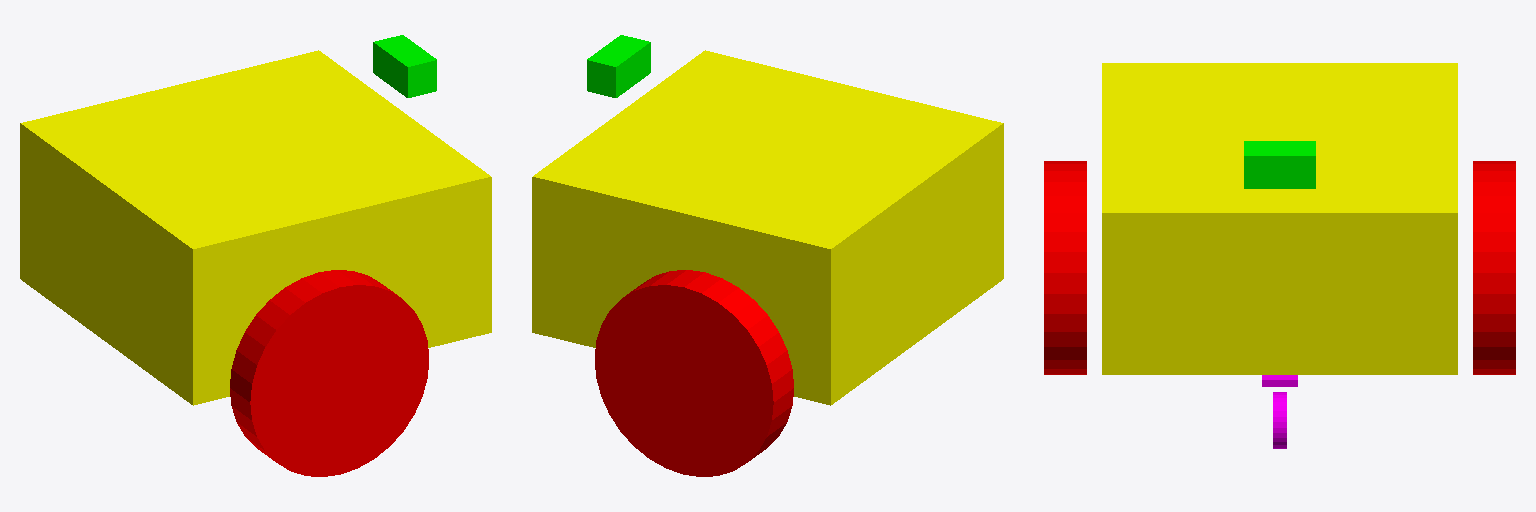
URDF robot description (diff_bot):
<?xml version="1.0"?>
<robot name="diff_bot">
  <link name="base_link">
    <inertial>
      <origin xyz="0.0 0.0 0.0" rpy="0.0 0.0 0.0"/>
      <mass value="0.0"/>
      <inertia ixx="0.0" ixy="0.0" ixz="0.0" iyy="0.0" iyz="0.0" izz="0.0"/>
    </inertial>
  </link>
  <link name="body">
    <inertial>
      <origin xyz="0.0 0.0 0.0" rpy="0.0 0.0 0.0"/>
      <mass value="10"/>
      <inertia ixx="0.4" ixy="0.0" ixz="0.0" iyy="0.4" iyz="0.0" izz="0.4"/>
    </inertial>
    <visual name="">
      <origin xyz="0.0 0.0 0.0" rpy="0.0 0.0 0.0"/>
      <geometry>
        <box size="0.5 0.5 0.25"/>
      </geometry>
      <material name="">
        <color rgba="1.0 1.0 0.0 1.0"/>
      </material>
    </visual>
    <collision>
      <origin xyz="0.0 0.0 0.0" rpy="0.0 0.0 0.0"/>
      <geometry>
        <box size="0.5 0.5 0.25"/>
      </geometry>
    </collision>
  </link>
  <link name="left_wheel">
    <inertial>
      <origin xyz="0.0 0.0 0.0" rpy="0.0 0.0 0.0"/>
      <mass value="0.5"/>
      <inertia ixx="0.01" ixy="0.0" ixz="0.0" iyy="0.01" iyz="0.0" izz="0.01"/>
    </inertial>
    <visual name="">
      <origin xyz="0.0 0.0 0.0" rpy="0.0 0.0 0.0"/>
      <geometry>
        <cylinder radius="0.15" length="0.06"/>
      </geometry>
      <material name="">
        <color rgba="1.0 0.0 0.0 1.0"/>
      </material>
    </visual>
    <collision>
      <origin xyz="0.0 0.0 0.0" rpy="0.0 0.0 0.0"/>
      <geometry>
        <cylinder radius="0.15" length="0.06"/>
      </geometry>
    </collision>
  </link>
  <link name="right_wheel">
    <inertial>
      <origin xyz="0.0 0.0 0.0" rpy="0.0 0.0 0.0"/>
      <mass value="0.5"/>
      <inertia ixx="0.01" ixy="0.0" ixz="0.0" iyy="0.01" iyz="0.0" izz="0.01"/>
    </inertial>
    <visual name="">
      <origin xyz="0.0 0.0 0.0" rpy="0.0 0.0 0.0"/>
      <geometry>
        <cylinder radius="0.15" length="0.06"/>
      </geometry>
      <material name="">
        <color rgba="1.0 0.0 0.0 1.0"/>
      </material>
    </visual>
    <collision>
      <origin xyz="0.0 0.0 0.0" rpy="0.0 0.0 0.0"/>
      <geometry>
        <cylinder radius="0.15" length="0.06"/>
      </geometry>
    </collision>
  </link>
  <link name="front_free_wheel_base">
    <inertial>
      <origin xyz="0.0 0.0 0.0" rpy="0.0 0.0 0.0"/>
      <mass value="0.1"/>
      <inertia ixx="0.001" ixy="0.0" ixz="0.0" iyy="0.001" iyz="0.0" izz="0.001"/>
    </inertial>
    <visual name="">
      <origin xyz="0.0 0.0 0.0" rpy="0.0 0.0 0.0"/>
      <geometry>
        <box size="0.05 0.05 0.01"/>
      </geometry>
      <material name="">
        <color rgba="1.0 0.0 1.0 1.0"/>
      </material>
    </visual>
    <collision>
      <origin xyz="0.0 0.0 0.0" rpy="0.0 0.0 0.0"/>
      <geometry>
        <box size="0.05 0.05 0.01"/>
      </geometry>
    </collision>
  </link>
  <link name="front_free_wheel">
    <inertial>
      <origin xyz="0.0 0.0 0.0" rpy="0.0 0.0 0.0"/>
      <mass value="0.2"/>
      <inertia ixx="0.005" ixy="0.0" ixz="0.0" iyy="0.005" iyz="0.0" izz="0.005"/>
    </inertial>
    <visual name="">
      <origin xyz="0.0 0.0 0.0" rpy="0.0 0.0 0.0"/>
      <geometry>
        <cylinder radius="0.04" length="0.02"/>
      </geometry>
      <material name="">
        <color rgba="1.0 0.0 1.0 1.0"/>
      </material>
    </visual>
    <collision>
      <origin xyz="0.0 0.0 0.0" rpy="0.0 0.0 0.0"/>
      <geometry>
        <cylinder radius="0.04" length="0.02"/>
      </geometry>
    </collision>
  </link>
  <link name="front_camera">
    <inertial>
      <origin xyz="0.0 0.0 0.0" rpy="0.0 0.0 0.0"/>
      <mass value="0.05"/>
      <inertia ixx="0.0" ixy="0.0" ixz="0.0" iyy="0.0" iyz="0.0" izz="0.0"/>
    </inertial>
    <visual name="">
      <origin xyz="0.0 0.0 0.0" rpy="0.0 0.0 0.0"/>
      <geometry>
        <box size="0.05 0.1 0.05"/>
      </geometry>
      <material name="">
        <color rgba="0.0 1.0 0.0 1.0"/>
      </material>
    </visual>
    <collision>
      <origin xyz="0.0 0.0 0.0" rpy="0.0 0.0 0.0"/>
      <geometry>
        <box size="0.05 0.1 0.05"/>
      </geometry>
    </collision>
  </link>
  <link name="third_person_camera">
    <inertial>
      <origin xyz="0.0 0.0 0.0" rpy="0.0 0.0 0.0"/>
      <mass value="0.0"/>
      <inertia ixx="0.0" ixy="0.0" ixz="0.0" iyy="0.0" iyz="0.0" izz="0.0"/>
    </inertial>
  </link>
  <joint name="base_to_body_joint" type="fixed">
    <origin xyz="0.1 0.0 -0.15" rpy="0.0 0.0 0.0"/>
    <parent link="base_link"/>
    <child link="body"/>
  </joint>
  <joint name="left_motor_joint" type="revolute">
    <origin xyz="-0.05 0.3 -0.1" rpy="1.5708 0.0 0.0"/>
    <parent link="body"/>
    <child link="left_wheel"/>
    <axis xyz="0.0 0.0 -1.0"/>
    <limit lower="-1e16" upper="1e16" effort="0.5" velocity="8"/>
    <dynamics damping="0.1"/>
  </joint>
  <joint name="right_motor_joint" type="revolute">
    <origin xyz="-0.05 -0.3 -0.1" rpy="1.5708 0.0 0.0"/>
    <parent link="body"/>
    <child link="right_wheel"/>
    <axis xyz="0.0 0.0 -1.0"/>
    <limit lower="-1e16" upper="1e16" effort="0.5" velocity="8"/>
    <dynamics damping="0.1"/>
  </joint>
  <joint name="front_free_wheel_base_joint" type="revolute">
    <origin xyz="0.2 0.0 -0.15" rpy="0.0 0.0 0.0"/>
    <parent link="body"/>
    <child link="front_free_wheel_base"/>
    <axis xyz="0.0 0.0 1.0"/>
    <limit lower="-1e16" upper="1e16" effort="0" velocity="0"/>
  </joint>
  <joint name="front_free_wheel_joint" type="revolute">
    <origin xyz="0.02 0.0 -0.06" rpy="1.5708 0.0 0.0"/>
    <parent link="front_free_wheel_base"/>
    <child link="front_free_wheel"/>
    <axis xyz="0.0 0.0 1.0"/>
    <limit lower="-1e16" upper="1e16" effort="0" velocity="0"/>
  </joint>
  <joint name="front_camera_joint" type="fixed">
    <origin xyz="0.25 0.0 0.2" rpy="0.0 0.0 0.0"/>
    <parent link="body"/>
    <child link="front_camera"/>
  </joint>
  <joint name="third_person_camera_joint" type="fixed">
    <origin xyz="-1.5 0.0 1.0" rpy="0.0 0.25 0.0"/>
    <parent link="base_link"/>
    <child link="third_person_camera"/>
  </joint>
  <gazebo reference="front_camera">
    <sensor name="front_camera" type="rgbd_camera">
      <always_on>1</always_on>
      <update_rate>1</update_rate>
      <visualize>false</visualize>
      <camera>
        <horizontal_fov>1.547</horizontal_fov>
        <image>
          <width>640</width>
          <height>480</height>
        </image>
        <clip>
          <near>0.4</near>
          <far>20</far>
        </clip>
        <noise type="gaussian">
          <mean>0.0</mean>
          <stddev>0.1</stddev>
        </noise>
      </camera>
    </sensor>
  </gazebo>
  <gazebo reference="third_person_camera">
    <sensor name="third_person_camera" type="camera">
      <always_on>1</always_on>
      <update_rate>10</update_rate>
      <visualize>false</visualize>
      <camera>
        <horizontal_fov>1.547</horizontal_fov>
        <image>
          <width>320</width>
          <height>240</height>
        </image>
        <clip>
          <near>0.1</near>
          <far>100</far>
        </clip>
        <noise type="none">
          <mean>0.0</mean>
          <stddev>0.0</stddev>
        </noise>
      </camera>
    </sensor>
  </gazebo>
</robot>

--- What the picture shows (computed from the rendered views, not written in the file) ---
3 views of the same robot in one strip: view 1: azimuth 30°, elevation 25°; view 2: azimuth 150°, elevation 25°; view 3: azimuth 270°, elevation 25° (orthographic).
Model diff_bot with 8 links and 7 joints (4 revolute, 3 fixed), rooted at base_link, posed all joints at 0.
Visible links, largest first — view 1: body, right_wheel, front_camera; view 2: body, left_wheel, front_camera; view 3: body, left_wheel, right_wheel, front_camera, front_free_wheel.
Link boxes in pixels (x1=…): body: x1=20, y1=50, x2=491, y2=405; right_wheel: x1=230, y1=270, x2=428, y2=476; front_camera: x1=373, y1=35, x2=436, y2=97; body: x1=532, y1=50, x2=1003, y2=405; left_wheel: x1=595, y1=270, x2=793, y2=476; front_camera: x1=587, y1=35, x2=650, y2=97; body: x1=1102, y1=63, x2=1457, y2=374; left_wheel: x1=1473, y1=161, x2=1515, y2=374; right_wheel: x1=1044, y1=161, x2=1086, y2=374; front_camera: x1=1244, y1=141, x2=1315, y2=188; front_free_wheel: x1=1273, y1=392, x2=1286, y2=448.
Bounding box of the posed robot: 0.525 × 0.66 × 0.475 m (x, y, z).
Geometry: primitives only (box / cylinder / sphere), no mesh files.